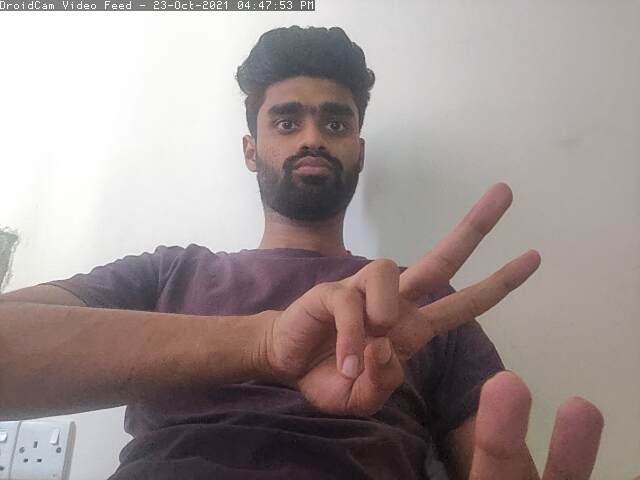Victory: (291, 182, 546, 371)
